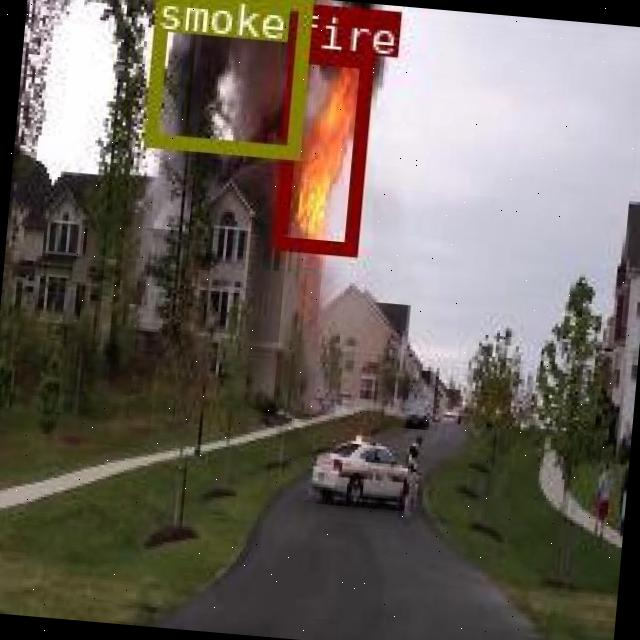fire: (272, 46, 372, 252)
smoke: (142, 0, 310, 157)
